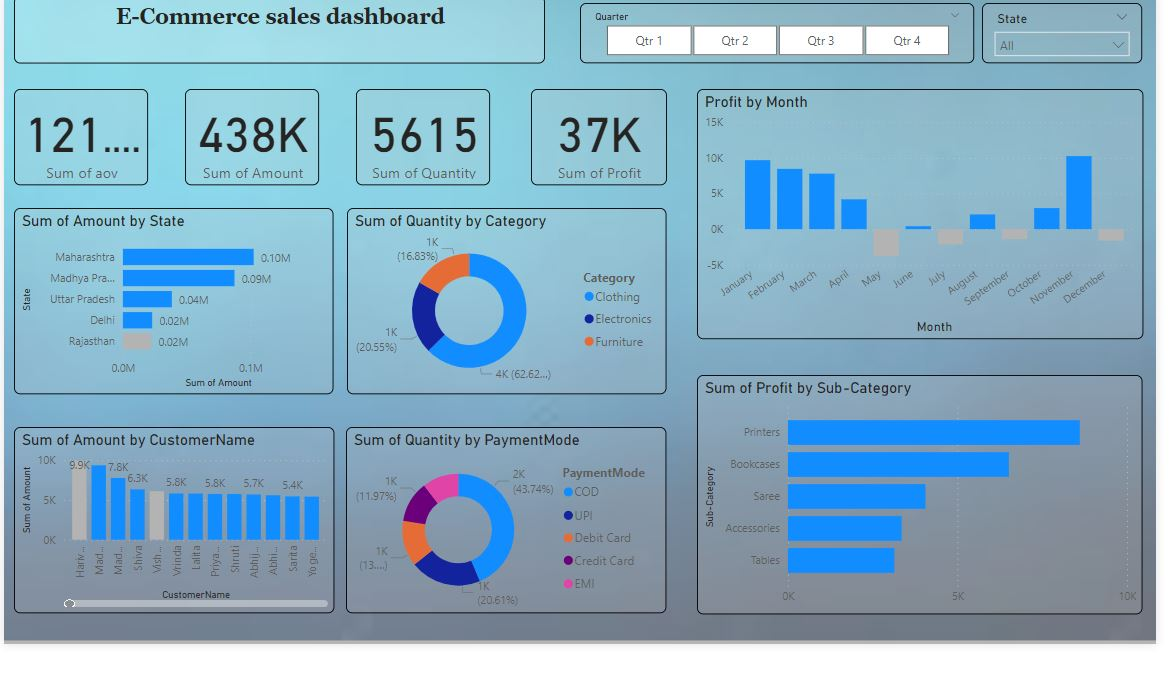

This screenshot's page, from the dashboard's own definition file:
{"tool":"powerbi","page":{"name":"Page 1","canvas":[1280,720],"ordinal":0},"visuals":[{"type":"textbox","box":[11.3,0,589.7,75.3],"z":0},{"type":"columnChart","title":" Profit by Month","fields":{"Y":["Details.Profit"],"Category":["Orders (1).Order Date.Variation.Date Hierarchy.Month"]},"box":[770.1,103.1,495.9,278.4],"z":1000},{"type":"barChart","fields":{"Category":["Details.Sub-Category"],"Y":["Details.Profit"]},"box":[770.1,420.6,494.8,266],"z":2000},{"type":"donutChart","fields":{"Category":["Details.Category"],"Y":["Details.Quantity"]},"box":[381.4,235.1,354.6,207.2],"z":3000},{"type":"donutChart","fields":{"Y":["Details.Quantity"],"Category":["Details.PaymentMode"]},"box":[380.4,479.4,355.7,207.2],"z":4000},{"type":"card","fields":{"Values":["Details.aov"]},"box":[11.3,103.1,149.5,107.2],"z":5000},{"type":"card","fields":{"Values":["Details.Amount"]},"box":[201,103.1,149.5,107.2],"z":6000},{"type":"card","fields":{"Values":["Details.Quantity"]},"box":[390.7,103.1,149.5,107.2],"z":7000},{"type":"card","fields":{"Values":["Details.Profit"]},"box":[585.6,103.1,150.5,107.2],"z":8000},{"type":"columnChart","fields":{"Category":["Orders (1).CustomerName"],"Y":["Details.Amount"]},"box":[11.3,479.4,355.7,207.2],"z":9000},{"type":"barChart","fields":{"Y":["Details.Amount"],"Category":["Orders (1).State"]},"box":[11.3,235.1,354.6,207.2],"z":10000},{"type":"slicer","fields":{"Values":["Orders (1).Order Date.Variation.Date Hierarchy.Quarter"]},"box":[640.2,8.2,438.1,67],"z":11000},{"type":"slicer","fields":{"Values":["Orders (1).State"]},"box":[1086.6,8.2,178.4,67],"z":12000}]}

Visuals, with their boxes in screenshot pixels (x1, y1, x2, y2), scaled from the page's 1280x720 canvas onto the 1169x677 screenshot:
textbox: select_region(10, 0, 549, 71)
" Profit by Month" columnChart: select_region(703, 97, 1156, 359)
barChart - Details.Sub-Category x Details.Profit: select_region(703, 395, 1155, 646)
donutChart - Details.Category x Details.Quantity: select_region(348, 221, 672, 416)
donutChart - Details.Quantity x Details.PaymentMode: select_region(347, 451, 672, 646)
card - Details.aov: select_region(10, 97, 147, 198)
card - Details.Amount: select_region(184, 97, 320, 198)
card - Details.Quantity: select_region(357, 97, 493, 198)
card - Details.Profit: select_region(535, 97, 672, 198)
columnChart - Orders (1).CustomerName x Details.Amount: select_region(10, 451, 335, 646)
barChart - Details.Amount x Orders (1).State: select_region(10, 221, 334, 416)
slicer - Orders (1).Order Date.Variation.Date Hierarchy.Quarter: select_region(585, 8, 985, 71)
slicer - Orders (1).State: select_region(992, 8, 1155, 71)
